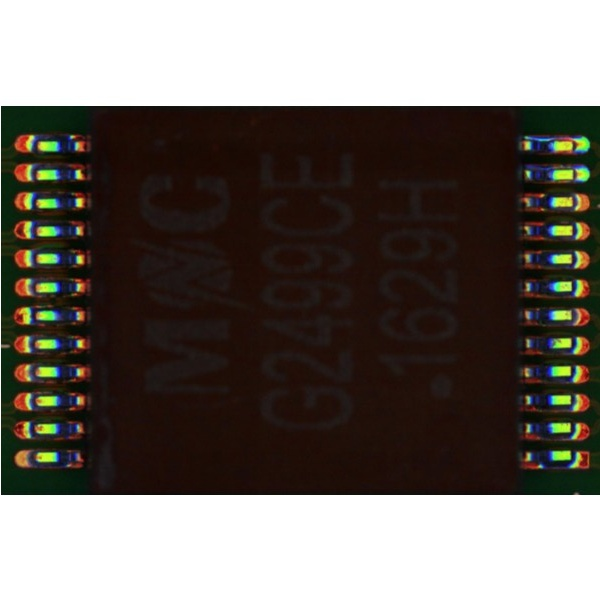Bad_podu: (566, 141, 580, 149)
Bad_qiaojiao: (522, 135, 572, 141)
